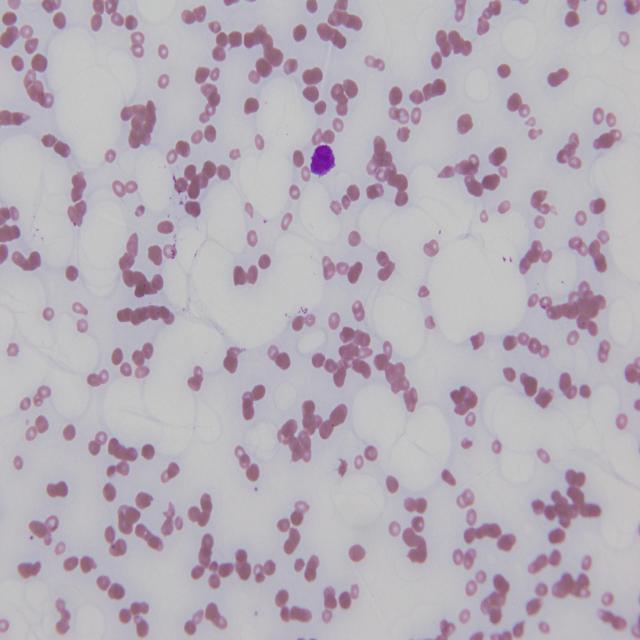cell: (310, 145, 335, 175)
